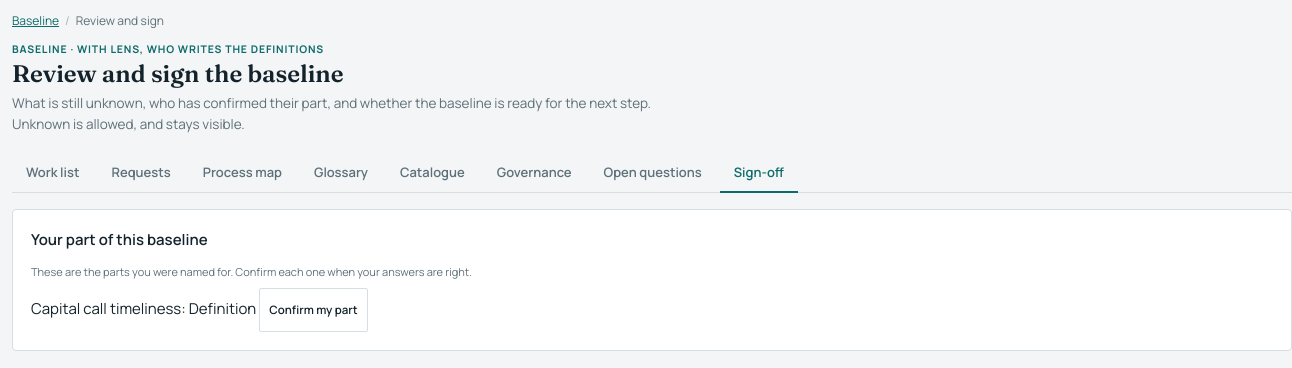
Test: M2-FIX-N › D4: an owner whose role cannot open the review sees their own parts and can confirm them
Click the button "Confirm my part": point(313, 310) [259, 288, 368, 332]
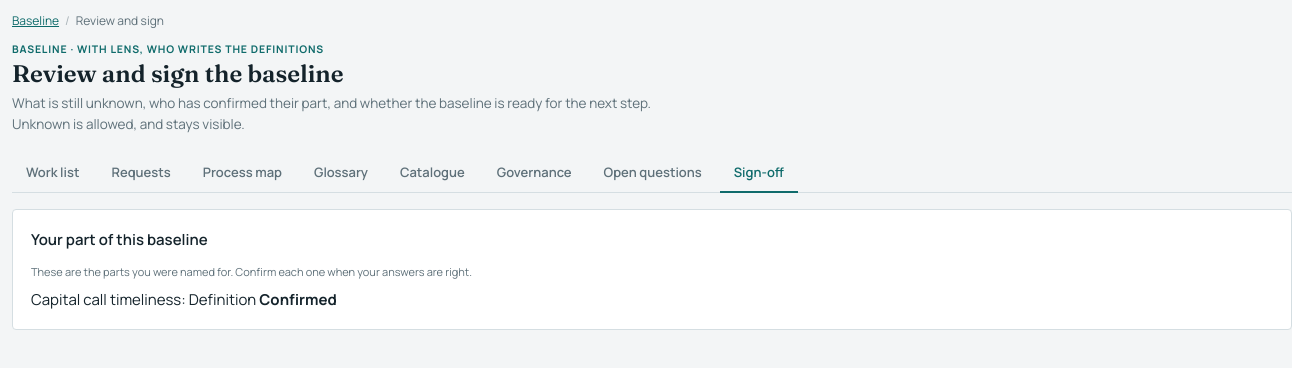
Now the text "Confirmed" is shown, box [259, 289, 337, 310]
